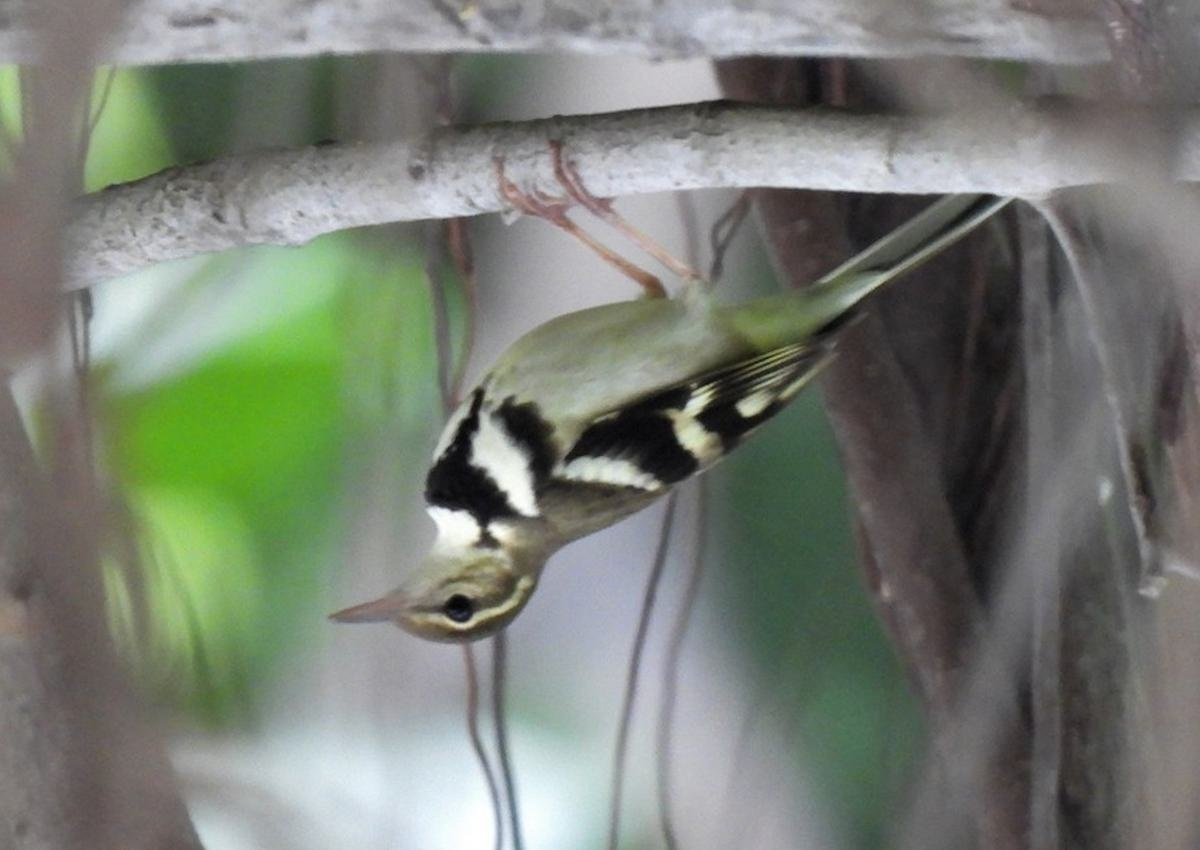wagtail: (280, 185, 1075, 680)
